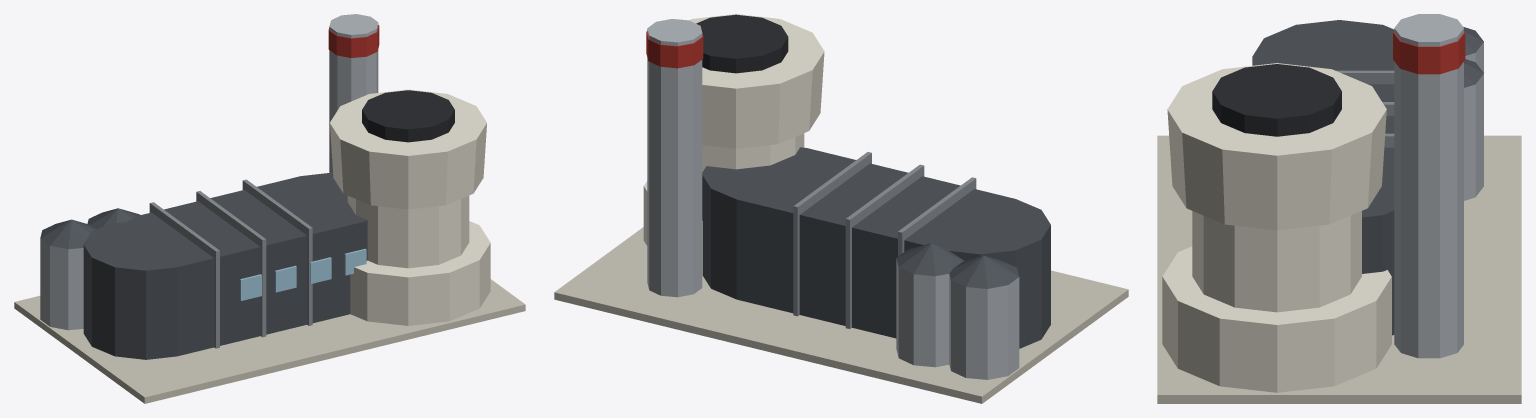
Rendered from building.energy-plant.glb.
3 views of the same model, side by side, from view 1: azimuth 30°, elevation 25°; view 2: azimuth 150°, elevation 25°; view 3: azimuth 270°, elevation 25° (orthographic). The views are drawn at different scales.
Parts seen in each view (by area): view 1: building.energy-plant; view 2: building.energy-plant; view 3: building.energy-plant.
Part boxes in pixels (box(x1,y1,x2,y2)): building.energy-plant: box(14, 14, 525, 403); building.energy-plant: box(554, 14, 1128, 403); building.energy-plant: box(1157, 14, 1521, 403).
Bounding box in the file's own units: 24.6 × 14.4 × 14.6.
